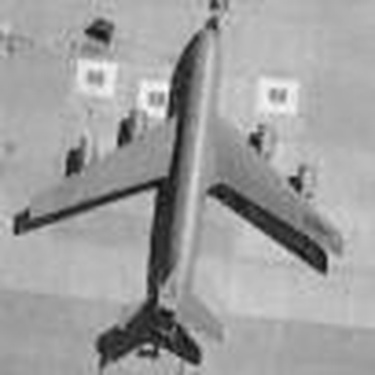airplane: (4, 4, 369, 371)
